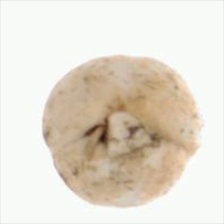L3: (84, 107, 168, 154)
L4: (41, 53, 201, 206)
